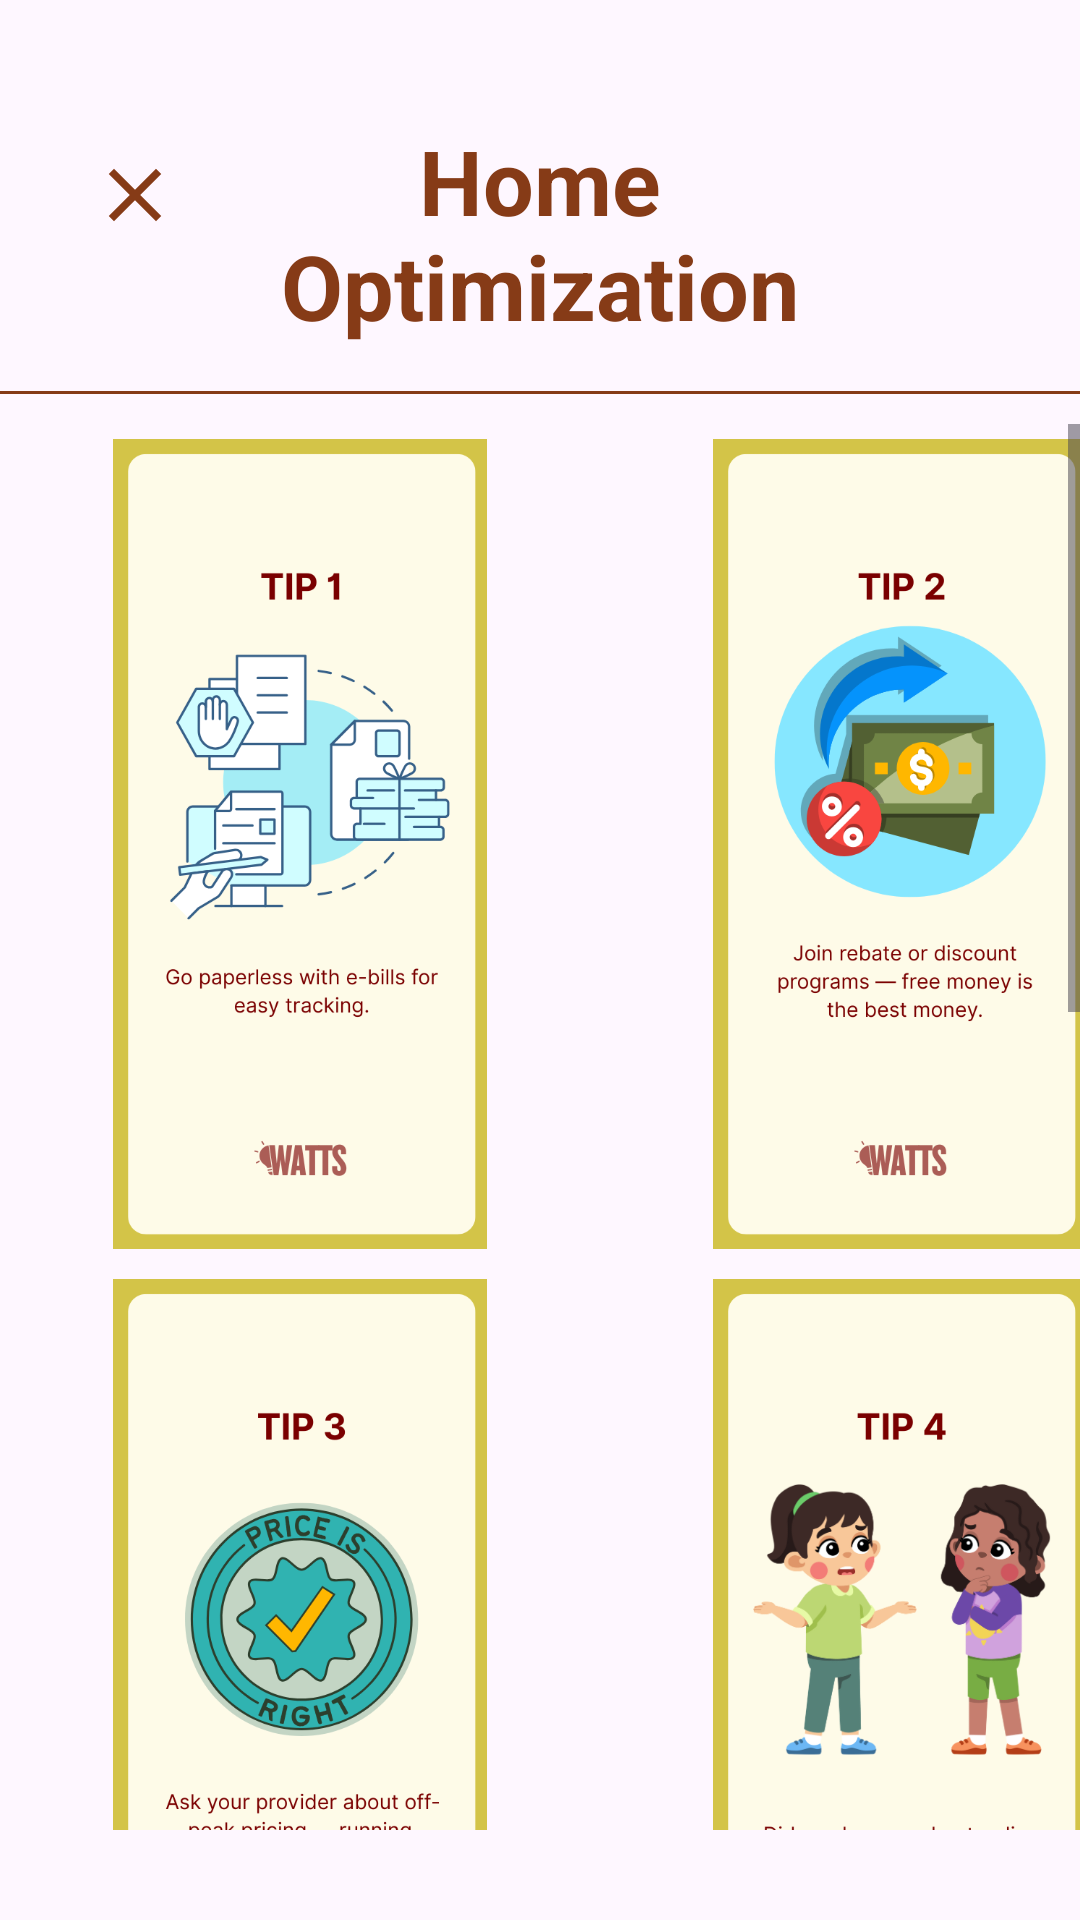

Named icons in this screenshot (1080px x 1920px) and their centers, (x,y):
close: (135,195)
